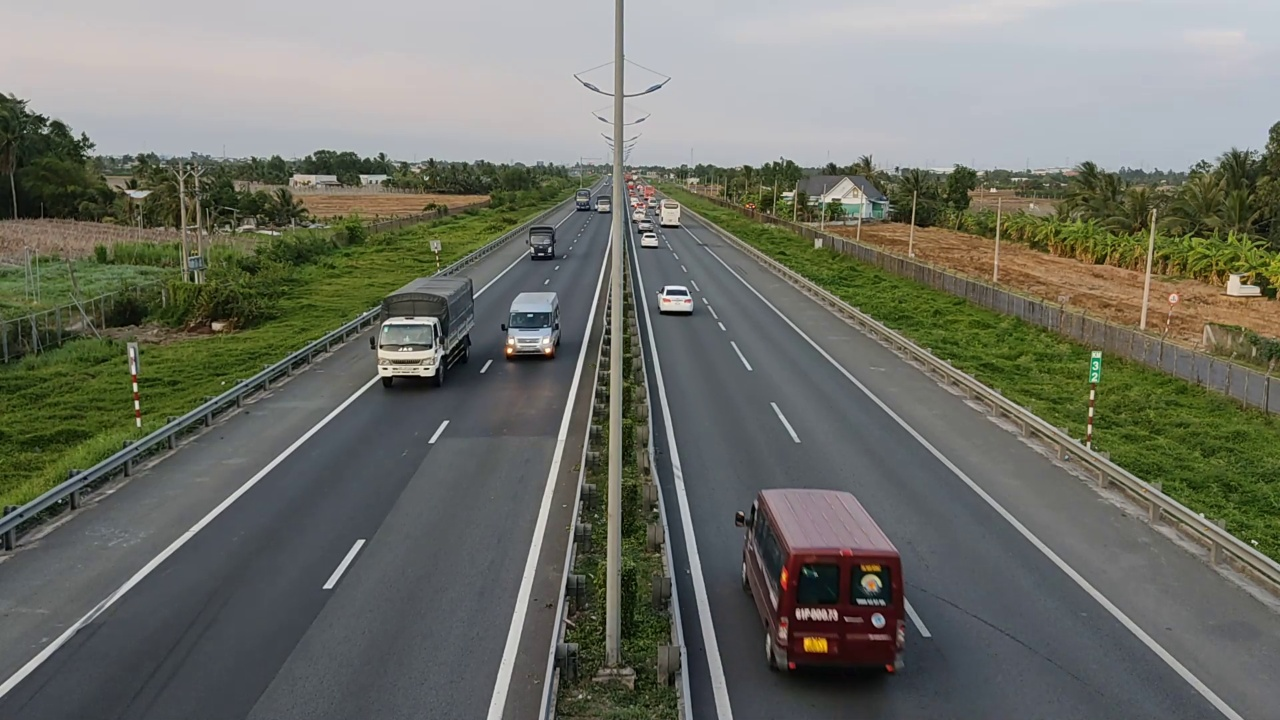car: (498, 287, 564, 366), (656, 283, 695, 315)
truck: (733, 487, 909, 675), (373, 274, 475, 389)
